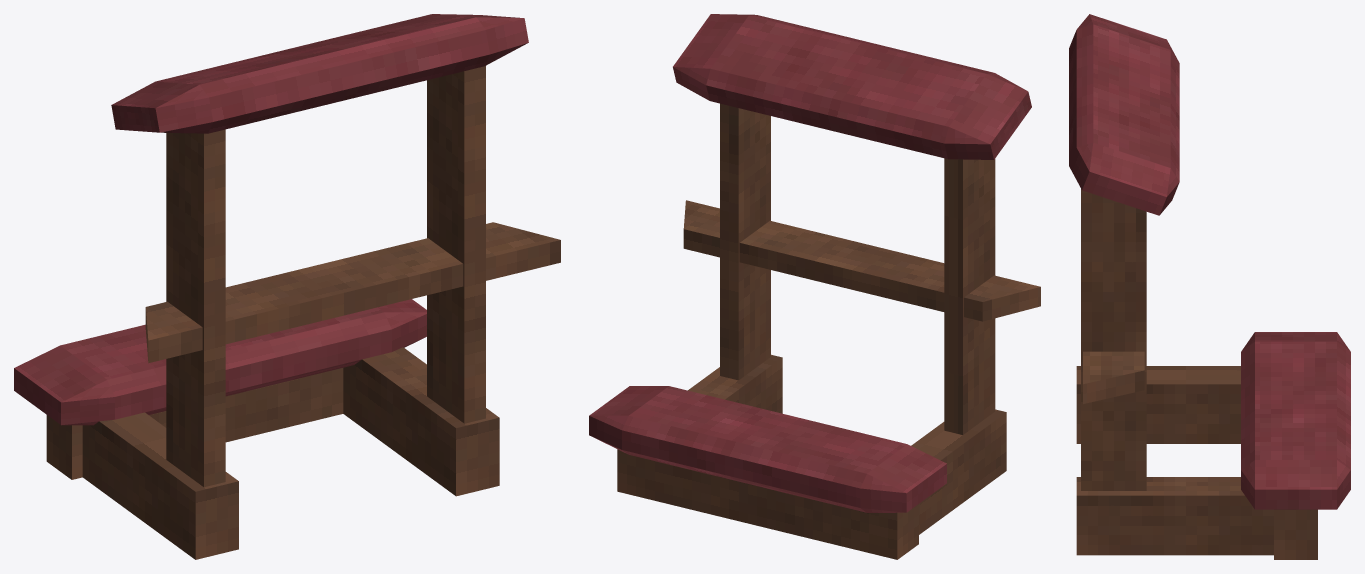
File: kneeler.gltf
3 renders of one model, left to right at view 1: azimuth 30°, elevation 25°; view 2: azimuth 150°, elevation 25°; view 3: azimuth 270°, elevation 25°, orthographic. The views are drawn at different scales.
Visible parts, largest first — view 1: cuboid (×6), beveled_cuboid (×2); view 2: cuboid (×6), beveled_cuboid (×2); view 3: cuboid (×5), beveled_cuboid (×2).
Part boxes in pixels (x1,y1,x2,y2): cuboid (×6): (46, 66, 560, 559); beveled_cuboid (×2): (14, 14, 528, 425); cuboid (×6): (617, 103, 1040, 559); beveled_cuboid (×2): (589, 14, 1031, 512); cuboid (×5): (1076, 189, 1317, 559); beveled_cuboid (×2): (1069, 14, 1350, 509).
Size of the model in its own units: 2.38 by 2.56 by 1.6.
2 materials, 2 textured.
